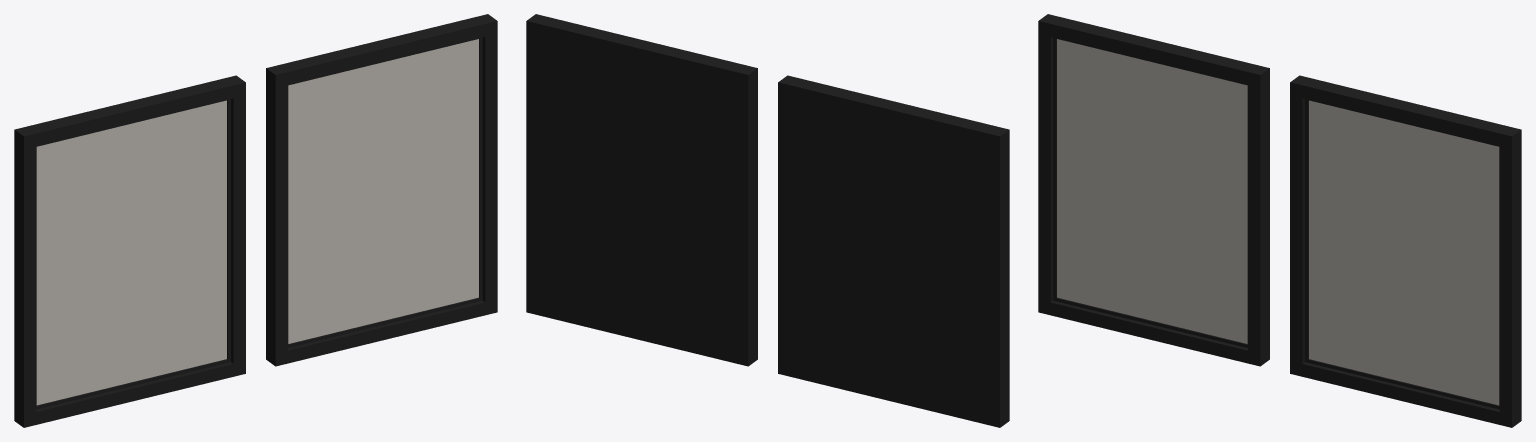
File: marco-2.glb
3 renders of one model, left to right at view 1: azimuth 30°, elevation 25°; view 2: azimuth 150°, elevation 25°; view 3: azimuth 330°, elevation 25°, orthographic.
Parts seen in each view (by area): view 1: obra1, obra2, marco; view 2: marco; view 3: obra2, obra1, marco.
Part boxes in pixels (box(x1,y1,x2,y2)): obra1: box(36, 100, 226, 405); obra2: box(288, 39, 478, 343); marco: box(14, 14, 497, 427); marco: box(526, 14, 1009, 427); obra2: box(1309, 100, 1499, 405); obra1: box(1057, 39, 1247, 343); marco: box(1038, 14, 1521, 427).
Bounding box in the file's own units: 0.636 × 0.374 × 0.022.
3 materials, 2 textured.
